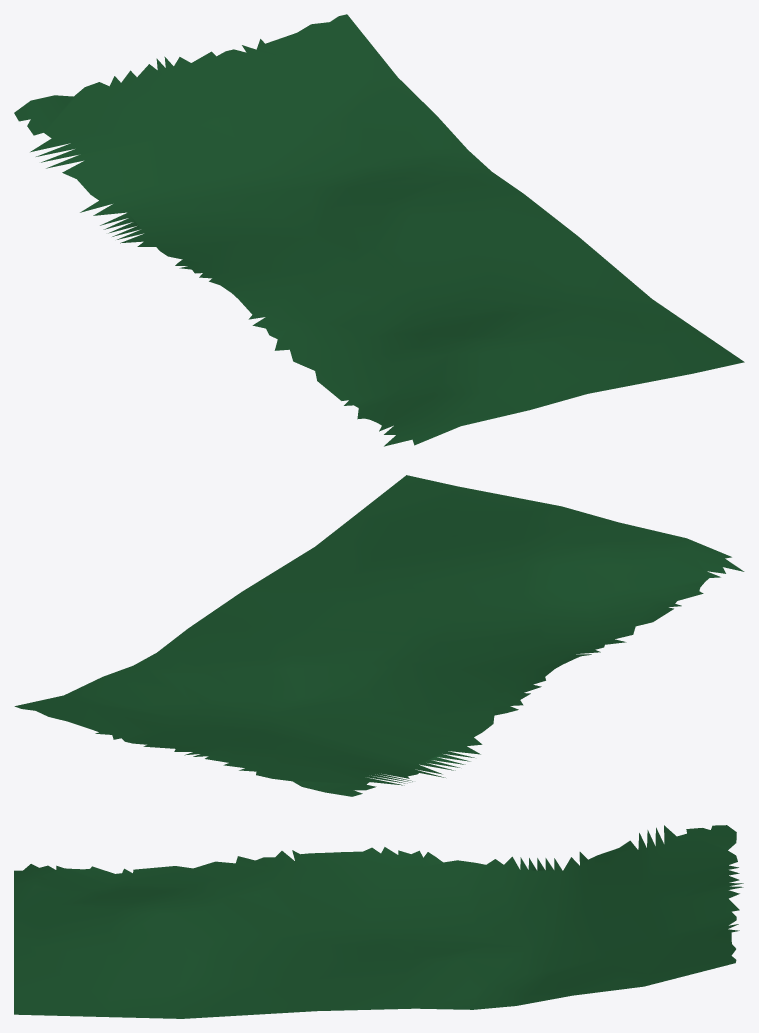
The model's file is payo_land_xm5_y2_lod2.glb.
The picture shows the model from 3 angles, top to bottom: view 1: azimuth 30°, elevation 25°; view 2: azimuth 150°, elevation 25°; view 3: azimuth 270°, elevation 25°; orthographic projection. The views are drawn at different scales.
Parts seen in each view (by area): view 1: payo_land_xm5_y2; view 2: payo_land_xm5_y2; view 3: payo_land_xm5_y2.
Boxes of the visible parts, left/top/right/bottom form: payo_land_xm5_y2: left=14, top=14, right=744, bottom=446; payo_land_xm5_y2: left=14, top=475, right=744, bottom=796; payo_land_xm5_y2: left=14, top=825, right=743, bottom=1018.
Size of the model in its own units: 133 by 22.37 by 260.
